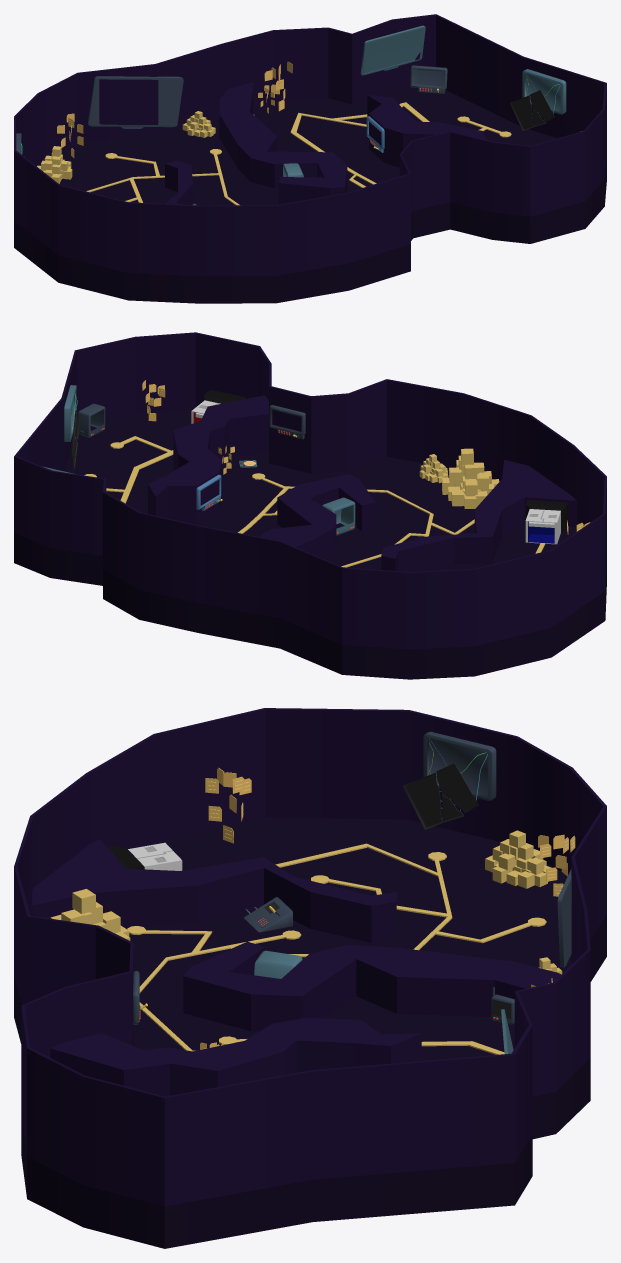
The model's file is Level 2, with pages and authentication (clean).fbx.
3 renders of one model, top to bottom at view 1: azimuth 30°, elevation 25°; view 2: azimuth 150°, elevation 25°; view 3: azimuth 270°, elevation 25°, orthographic. The views are drawn at different scales.
Parts seen in each view (by area): view 1: Cube.132, Cube, Cube.003, Cube.002, Cube.029, Cube.018, Cube.056, Cube.104, Cube.004, Cube.025, Cube.045, Cube.048 (+2 smaller); view 2: Cube.132, Cube, Cube.002, Cube.004, Cube.003, Cube.036, Cube.104, Cube.090, Cube.029, Cube.013, Cube.078, Cube.091 (+2 smaller); view 3: Cube.132, Cube, Cube.003, Cube.004, Cube.002, Cube.042, Cube.104, Cube.045, Cube.036, Cube.090, Cube.052, Plane.001 (+3 smaller).
Part boxes in pixels (box(x1,y1,x2,y2)): Cube.132: box(14, 14, 606, 276); Cube: box(14, 88, 606, 303); Cube.003: box(219, 82, 347, 204); Cube.002: box(367, 95, 486, 167); Cube.029: box(510, 69, 566, 131); Cube.018: box(360, 25, 425, 75); Cube.056: box(88, 76, 183, 128); Cube.104: box(86, 102, 506, 205); Cube.004: box(165, 160, 192, 204); Cube.025: box(410, 65, 447, 93); Cube.045: box(37, 146, 72, 183); Cube.048: box(182, 111, 215, 137); Cube.132: box(14, 332, 606, 649); Cube: box(14, 410, 606, 679); Cube.002: box(148, 395, 268, 524); Cube.004: box(381, 460, 576, 571); Cube.003: box(259, 474, 375, 559); Cube.036: box(442, 448, 499, 508); Cube.104: box(106, 436, 545, 567); Cube.090: box(525, 500, 567, 544); Cube.029: box(64, 385, 79, 470); Cube.013: box(77, 403, 105, 437); Cube.078: box(322, 497, 355, 535); Cube.091: box(191, 390, 246, 423); Cube.132: box(14, 708, 606, 1206); Cube: box(14, 817, 606, 1248); Cube.003: box(183, 941, 561, 1031); Cube.004: box(32, 839, 396, 942); Cube.002: box(50, 1018, 421, 1096); Cube.042: box(403, 731, 496, 829); Cube.104: box(133, 843, 538, 1054); Cube.045: box(485, 830, 551, 888); Cube.036: box(50, 889, 130, 940); Cube.090: box(108, 842, 182, 870); Cube.052: box(205, 767, 251, 843); Plane.001: box(244, 897, 292, 932).
Bounding box in the file's own units: 6370 × 1147 × 4090.
